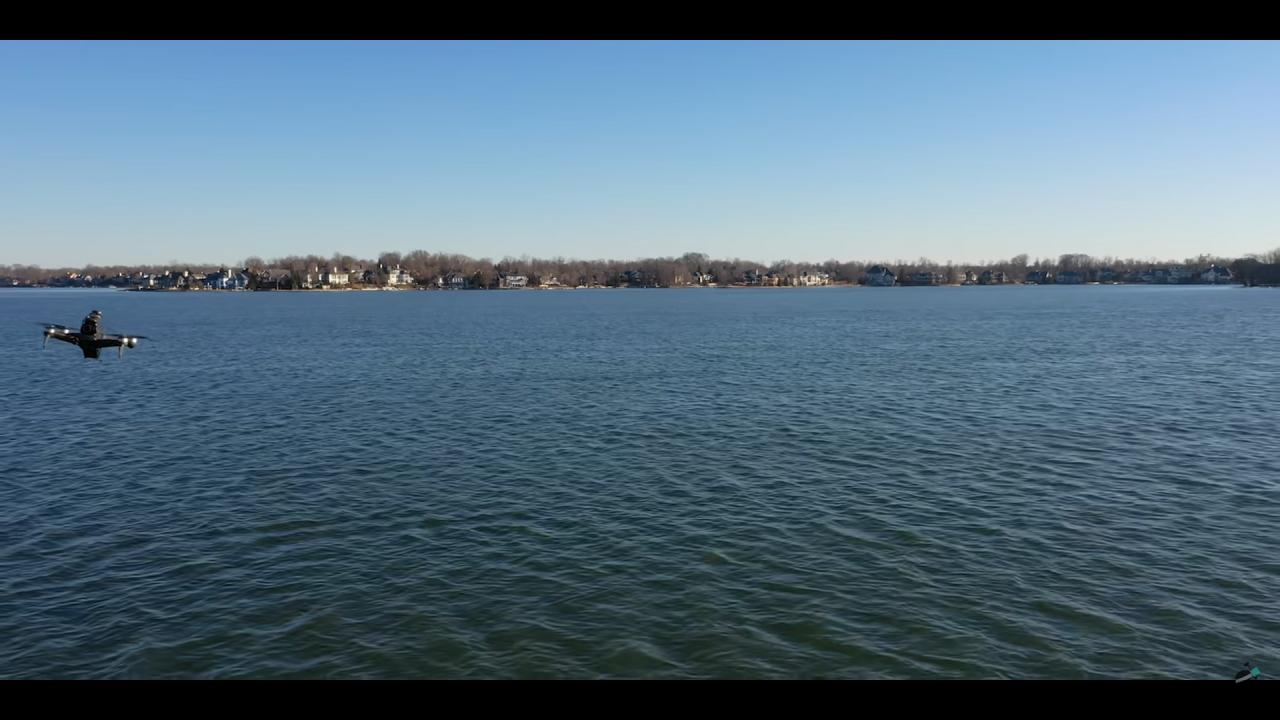Drone: (27, 301, 159, 372)
